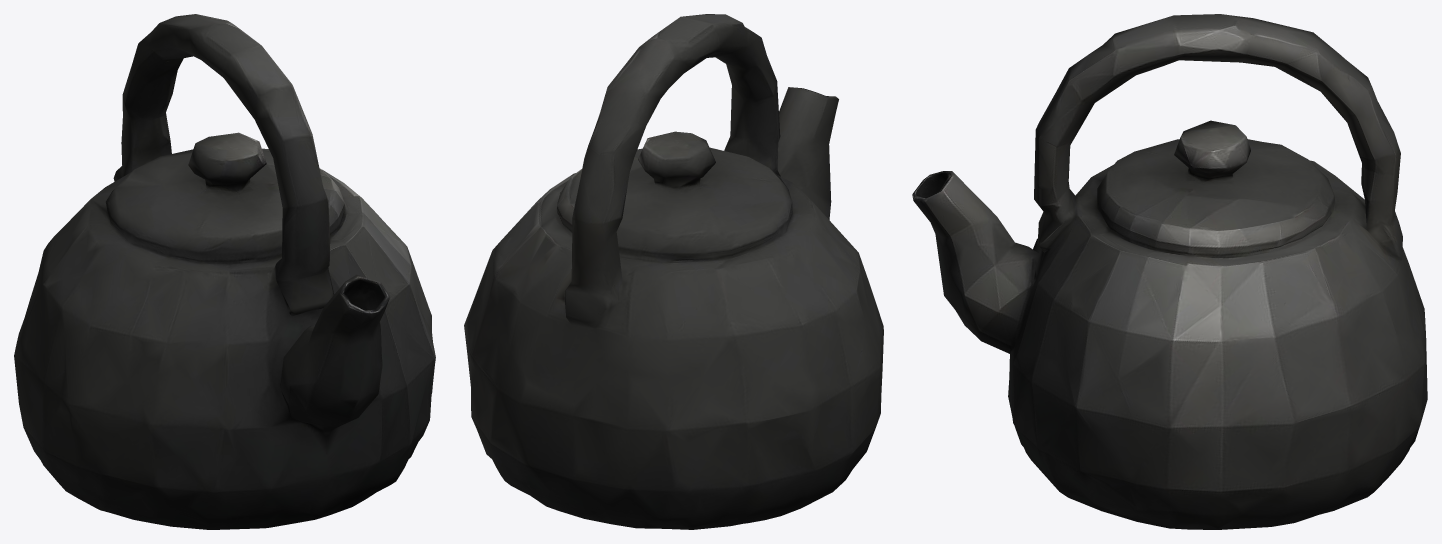
Rendered from iron_teapot.glb.
3 renders of one model, left to right at view 1: azimuth 30°, elevation 25°; view 2: azimuth 150°, elevation 25°; view 3: azimuth 270°, elevation 25°, orthographic. The views are drawn at different scales.
Parts seen in each view (by area): view 1: tripo_node_297203ba-5ec6-4e8c-b3f0-b60348a4dafb; view 2: tripo_node_297203ba-5ec6-4e8c-b3f0-b60348a4dafb; view 3: tripo_node_297203ba-5ec6-4e8c-b3f0-b60348a4dafb.
Boxes of the visible parts, left/top/right/bottom form: tripo_node_297203ba-5ec6-4e8c-b3f0-b60348a4dafb: left=14, top=14, right=435, bottom=529; tripo_node_297203ba-5ec6-4e8c-b3f0-b60348a4dafb: left=464, top=14, right=883, bottom=529; tripo_node_297203ba-5ec6-4e8c-b3f0-b60348a4dafb: left=912, top=14, right=1427, bottom=529.
Size of the model in its own units: 0.8316 by 0.95 by 1.
1 material, 1 textured.
